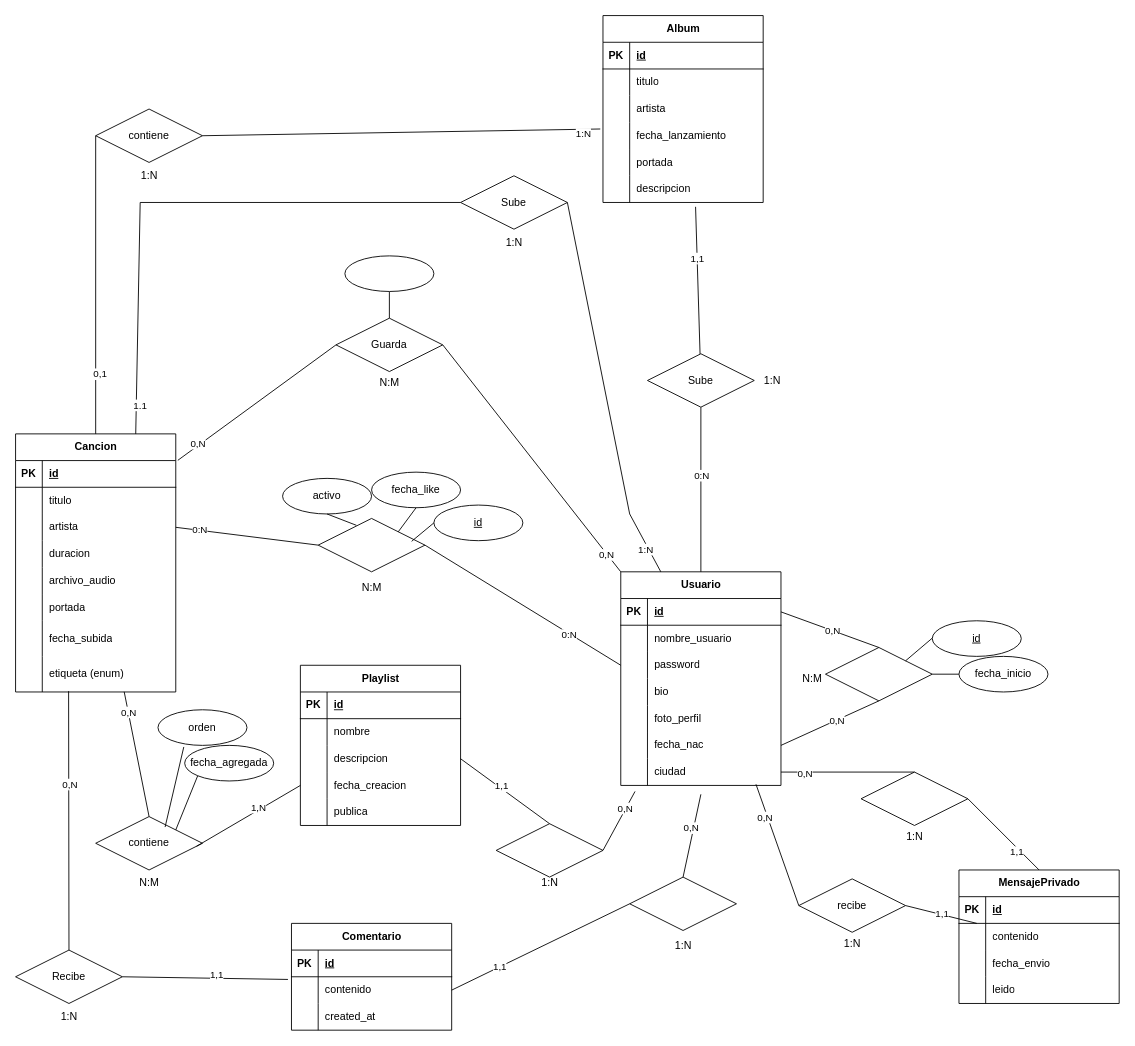
The diagram is 1135 pixels wide and 1046 high, and some of its shapes have lost their labels. The centre of each missing label's shape, as x and y in pixels:
"crea" belongs at pixel 549 850.
"da like" belongs at pixel 371 545.
"envía" belongs at pixel 914 798.
"escribe" belongs at pixel 682 903.
"fecha_guardado" belongs at pixel 389 273.
"Sigue" belongs at pixel 878 674.
